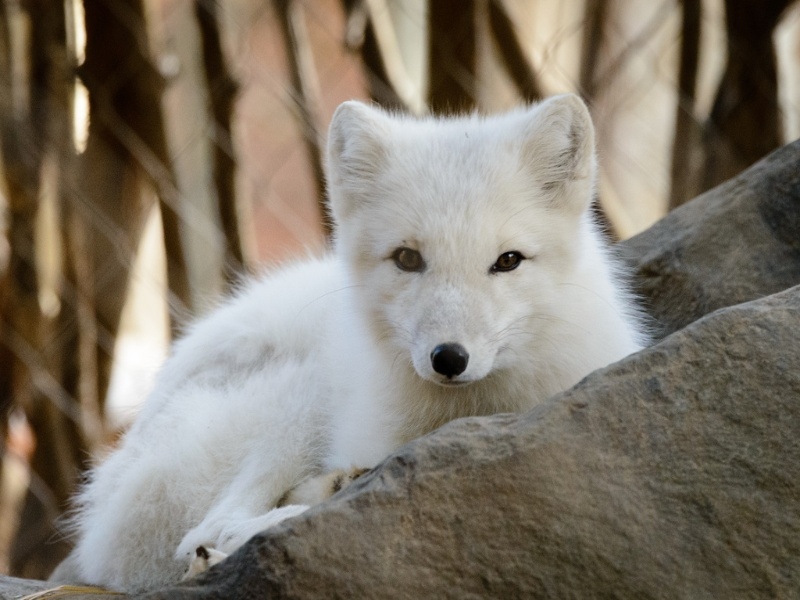fox: (53, 87, 624, 594)
